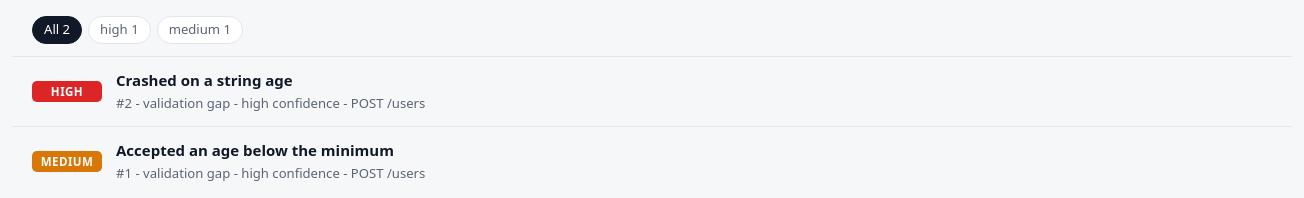
Test: FindingsList › lists the most severe first and filters by severity
Click the button "medium 1" at (200, 30), box [157,16,243,44]
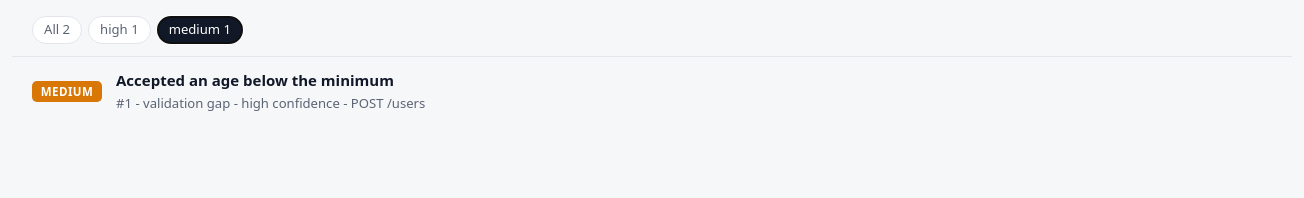
Expected: the button "Crashed on a string age" is gone
